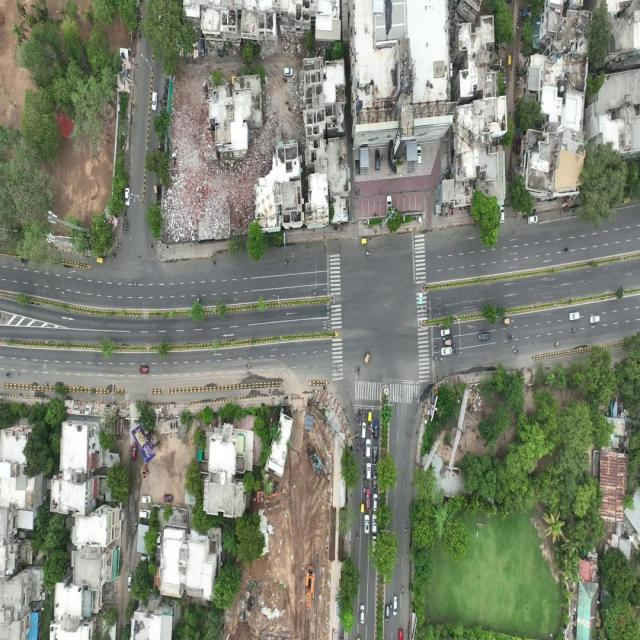3W: (95, 255, 105, 265), (364, 350, 371, 364), (367, 408, 373, 422), (502, 317, 511, 326), (360, 501, 366, 514), (123, 220, 129, 232), (360, 236, 367, 246), (444, 339, 453, 345)
Cars: (150, 90, 158, 111), (137, 364, 150, 376), (392, 594, 399, 616), (359, 601, 366, 623), (478, 330, 490, 342), (371, 514, 378, 534), (364, 513, 370, 535), (365, 488, 371, 510), (440, 346, 452, 357), (372, 444, 378, 464), (569, 310, 579, 322), (589, 314, 601, 324), (366, 462, 372, 481), (499, 206, 505, 225), (124, 187, 130, 206), (372, 493, 378, 511), (366, 438, 371, 458), (527, 215, 538, 224), (373, 470, 378, 489), (385, 604, 390, 623), (374, 421, 379, 439), (439, 329, 450, 336)
M2W: (511, 346, 520, 355), (507, 333, 513, 343), (282, 258, 289, 266), (570, 326, 577, 334), (110, 251, 116, 260), (404, 522, 408, 535), (433, 343, 440, 350), (453, 349, 460, 356), (553, 341, 560, 348), (362, 460, 366, 472), (400, 584, 404, 596), (432, 354, 438, 361), (246, 362, 252, 369), (356, 442, 360, 452), (356, 366, 360, 376), (118, 241, 122, 251), (6, 370, 11, 378), (438, 356, 444, 362), (562, 247, 568, 253), (211, 259, 217, 265), (365, 250, 370, 257), (158, 98, 162, 106), (359, 419, 362, 429), (363, 486, 366, 496), (356, 532, 359, 542), (359, 518, 362, 528), (362, 408, 365, 418), (312, 291, 318, 296), (124, 210, 127, 220), (42, 382, 48, 387), (370, 423, 373, 432), (368, 422, 370, 434), (372, 428, 374, 440), (390, 600, 392, 611), (361, 439, 363, 449), (365, 412, 367, 422), (363, 441, 365, 451), (363, 450, 365, 459)
